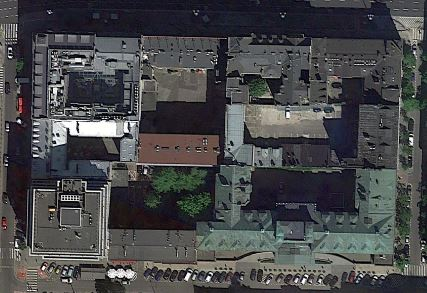block of flats: (25, 29, 400, 271)
